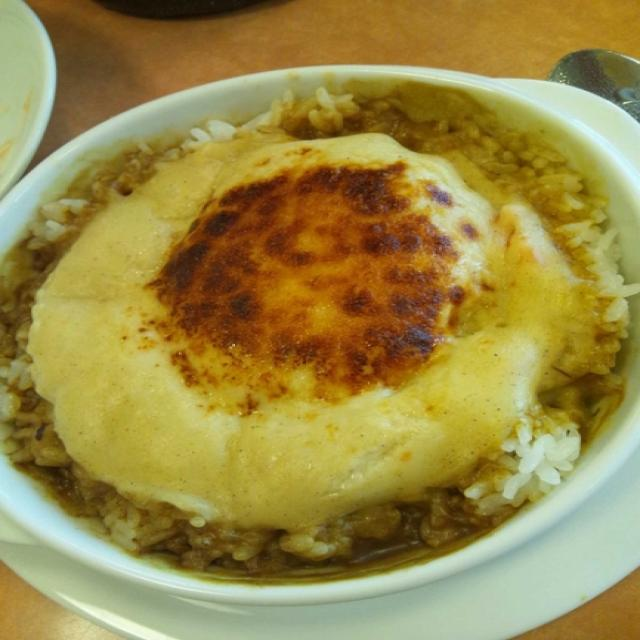米饭主食: (26, 67, 608, 576)
